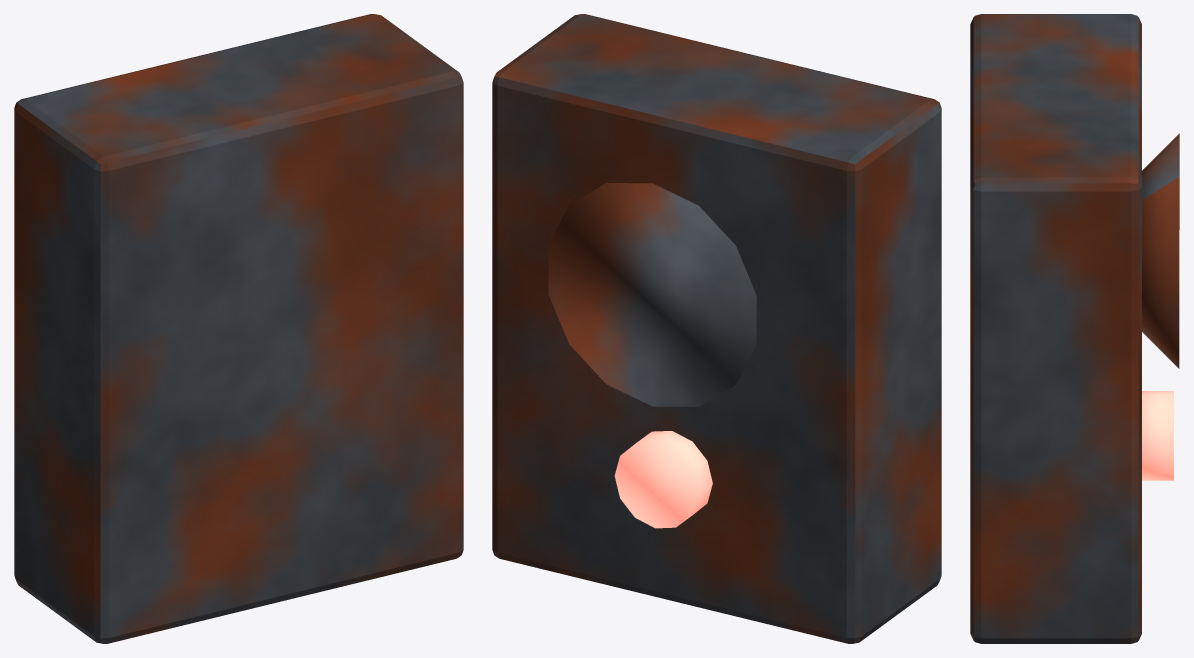
The model's file is prop_pa_intercom.glb.
3 views of the same model, side by side, from view 1: azimuth 30°, elevation 25°; view 2: azimuth 150°, elevation 25°; view 3: azimuth 270°, elevation 25° (orthographic). The views are drawn at different scales.
Parts seen in each view (by area): view 1: Housing; view 2: Housing, SpeakerCone, CallBtn; view 3: Housing, SpeakerCone, CallBtn.
Part boxes in pixels (bbox=[...]): Housing: bbox=[14, 14, 463, 643]; Housing: bbox=[492, 14, 941, 643]; SpeakerCone: bbox=[548, 183, 756, 406]; CallBtn: bbox=[614, 431, 712, 528]; Housing: bbox=[970, 14, 1141, 643]; SpeakerCone: bbox=[1142, 133, 1179, 368]; CallBtn: bbox=[1142, 391, 1173, 480].
Bounding box in the file's own units: 0.38 × 0.48 × 0.1951.
2 materials, 1 textured.
